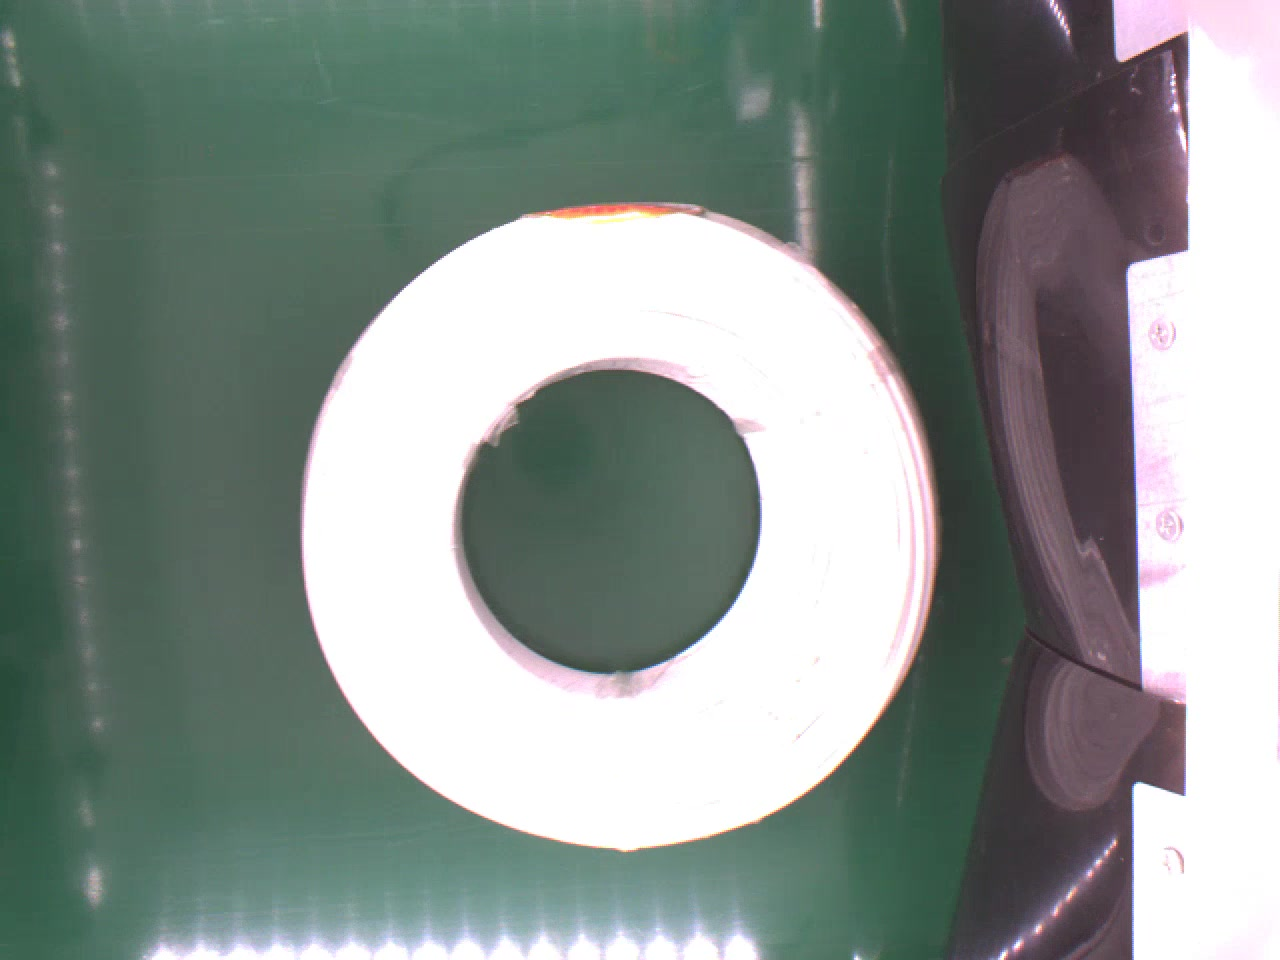white: (298, 199, 947, 854)
